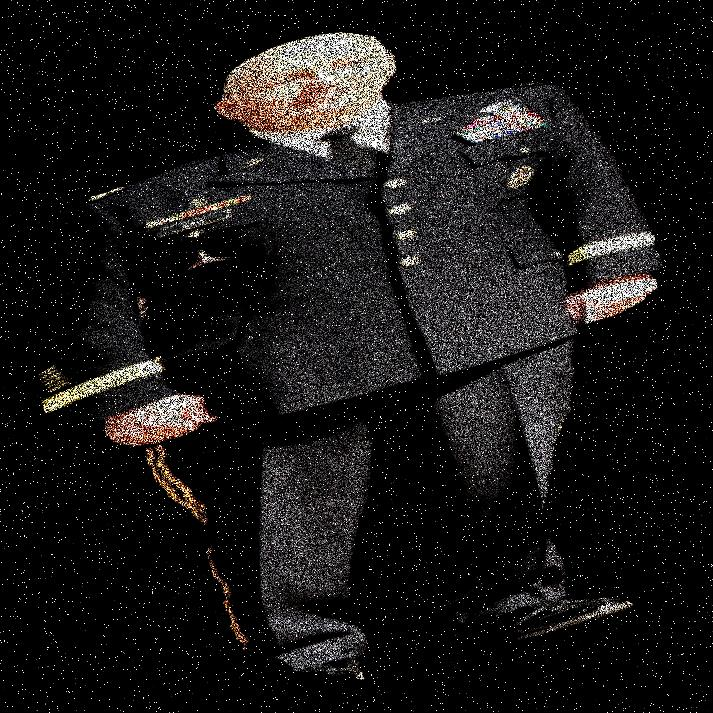Pessoa: (129, 0, 557, 712)
